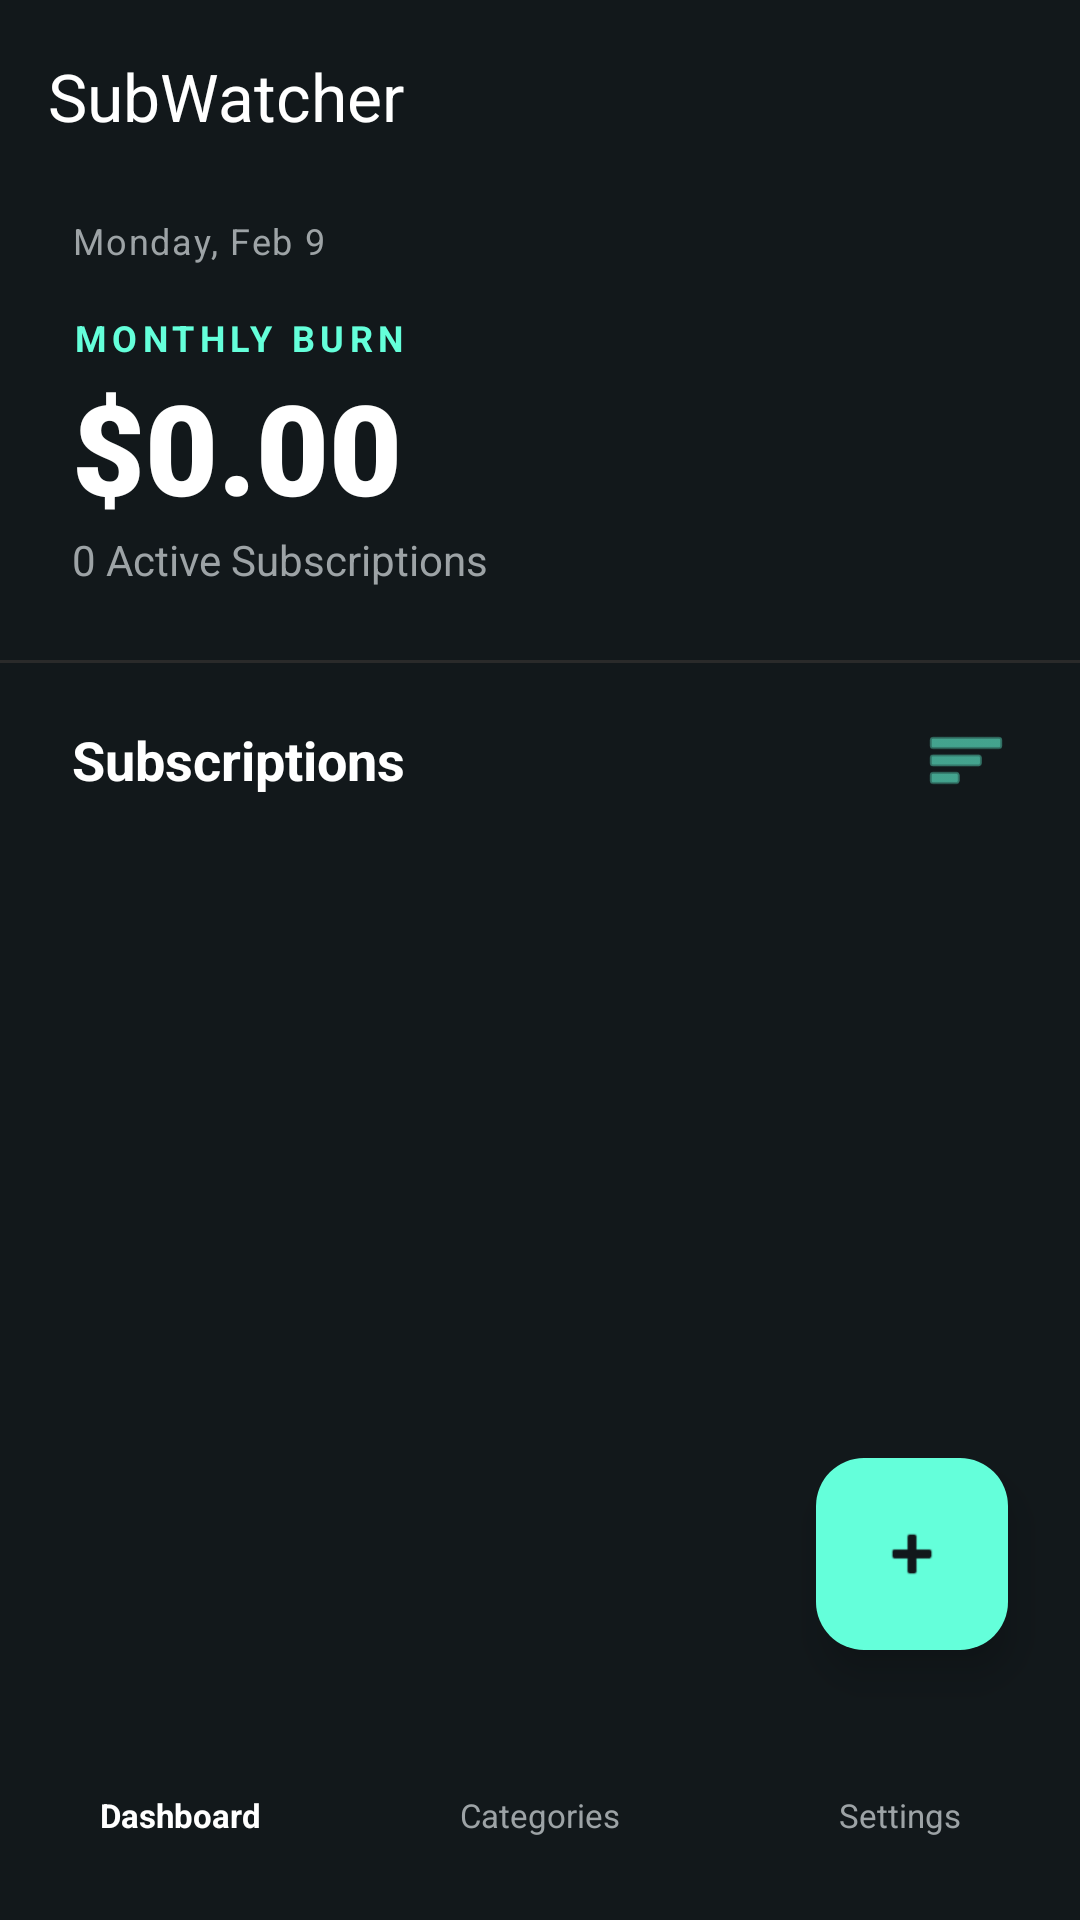

Icon bounding boxes for this 1080 x 1920 phone screenshot, format {"x1": x1, "y1": y1, "x2": x2, "y2": y2}:
add: {"x1": 816, "y1": 1458, "x2": 1008, "y2": 1650}
sort by size: {"x1": 930, "y1": 737, "x2": 1002, "y2": 784}
